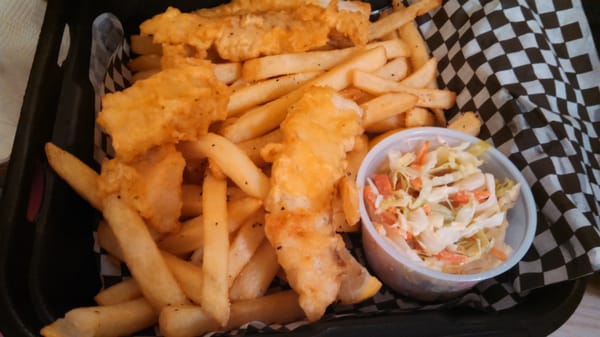sushi: (355, 125, 539, 302)
